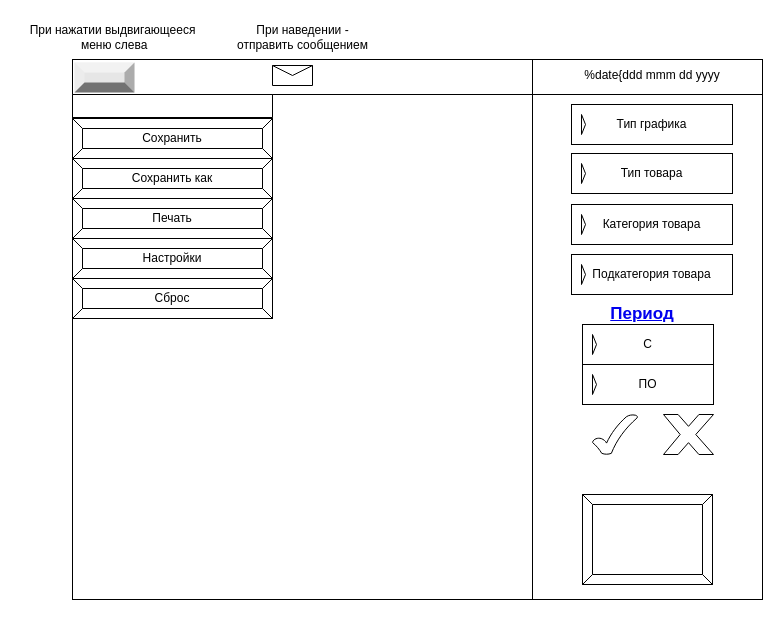
Image size: 780x617. Some labels were removed from this diagram. The box of each missing label's shape, as (x1, y1, x2, y2) in pixels:
Выдвижное меню: (72, 94, 272, 318)
Выполнить: (582, 494, 712, 584)
Меню: (74, 62, 134, 92)
